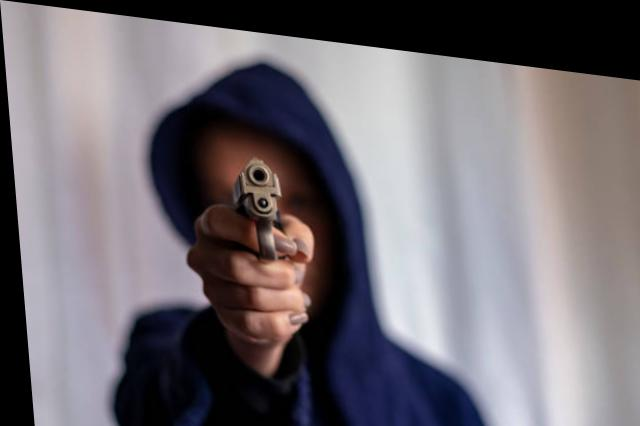other: (85, 43, 488, 424)
